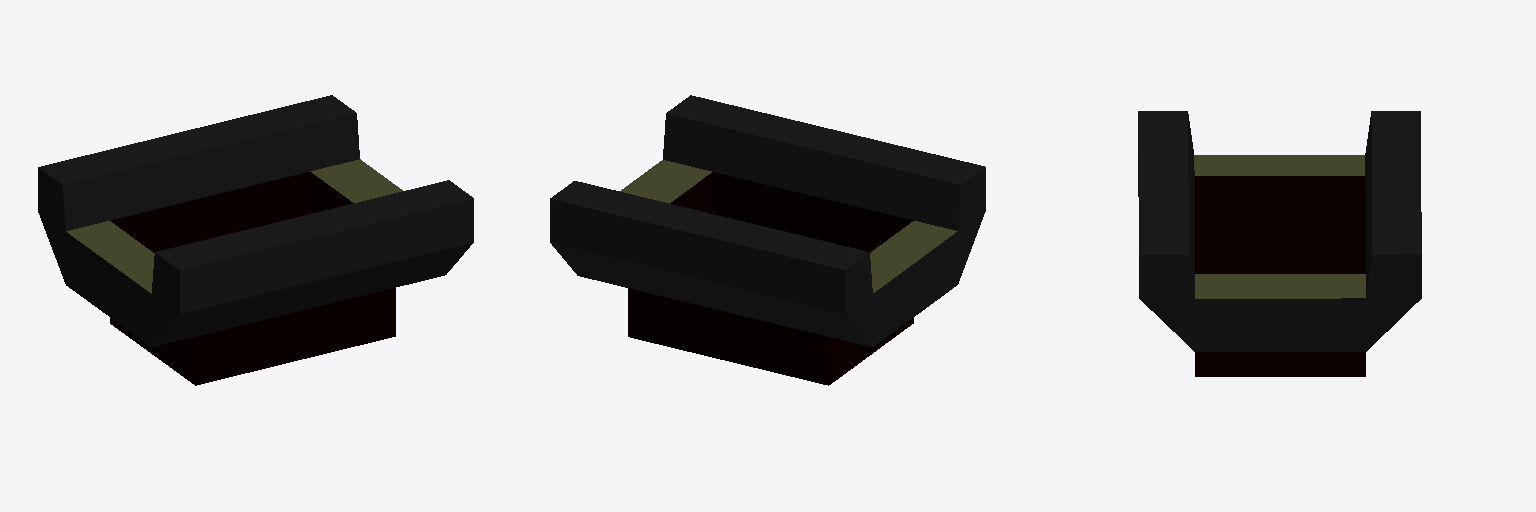
The model's file is lave.obj.
3 views of the same model, side by side, from view 1: azimuth 30°, elevation 25°; view 2: azimuth 150°, elevation 25°; view 3: azimuth 270°, elevation 25° (orthographic).
Visible parts, largest first — view 1: Mesh1 default_group Mesh1_default_group_Cube_skp30_1_Model_001 s; view 2: Mesh1 default_group Mesh1_default_group_Cube_skp30_1_Model_001 s; view 3: Mesh1 default_group Mesh1_default_group_Cube_skp30_1_Model_001 s.
Part boxes in pixels (x1,y1,x2,y2): Mesh1 default_group Mesh1_default_group_Cube_skp30_1_Model_001 s: (38, 95, 473, 385); Mesh1 default_group Mesh1_default_group_Cube_skp30_1_Model_001 s: (550, 95, 985, 385); Mesh1 default_group Mesh1_default_group_Cube_skp30_1_Model_001 s: (1138, 111, 1421, 376).
Bounding box in the file's own units: 6.02 × 2.86 × 5.01.